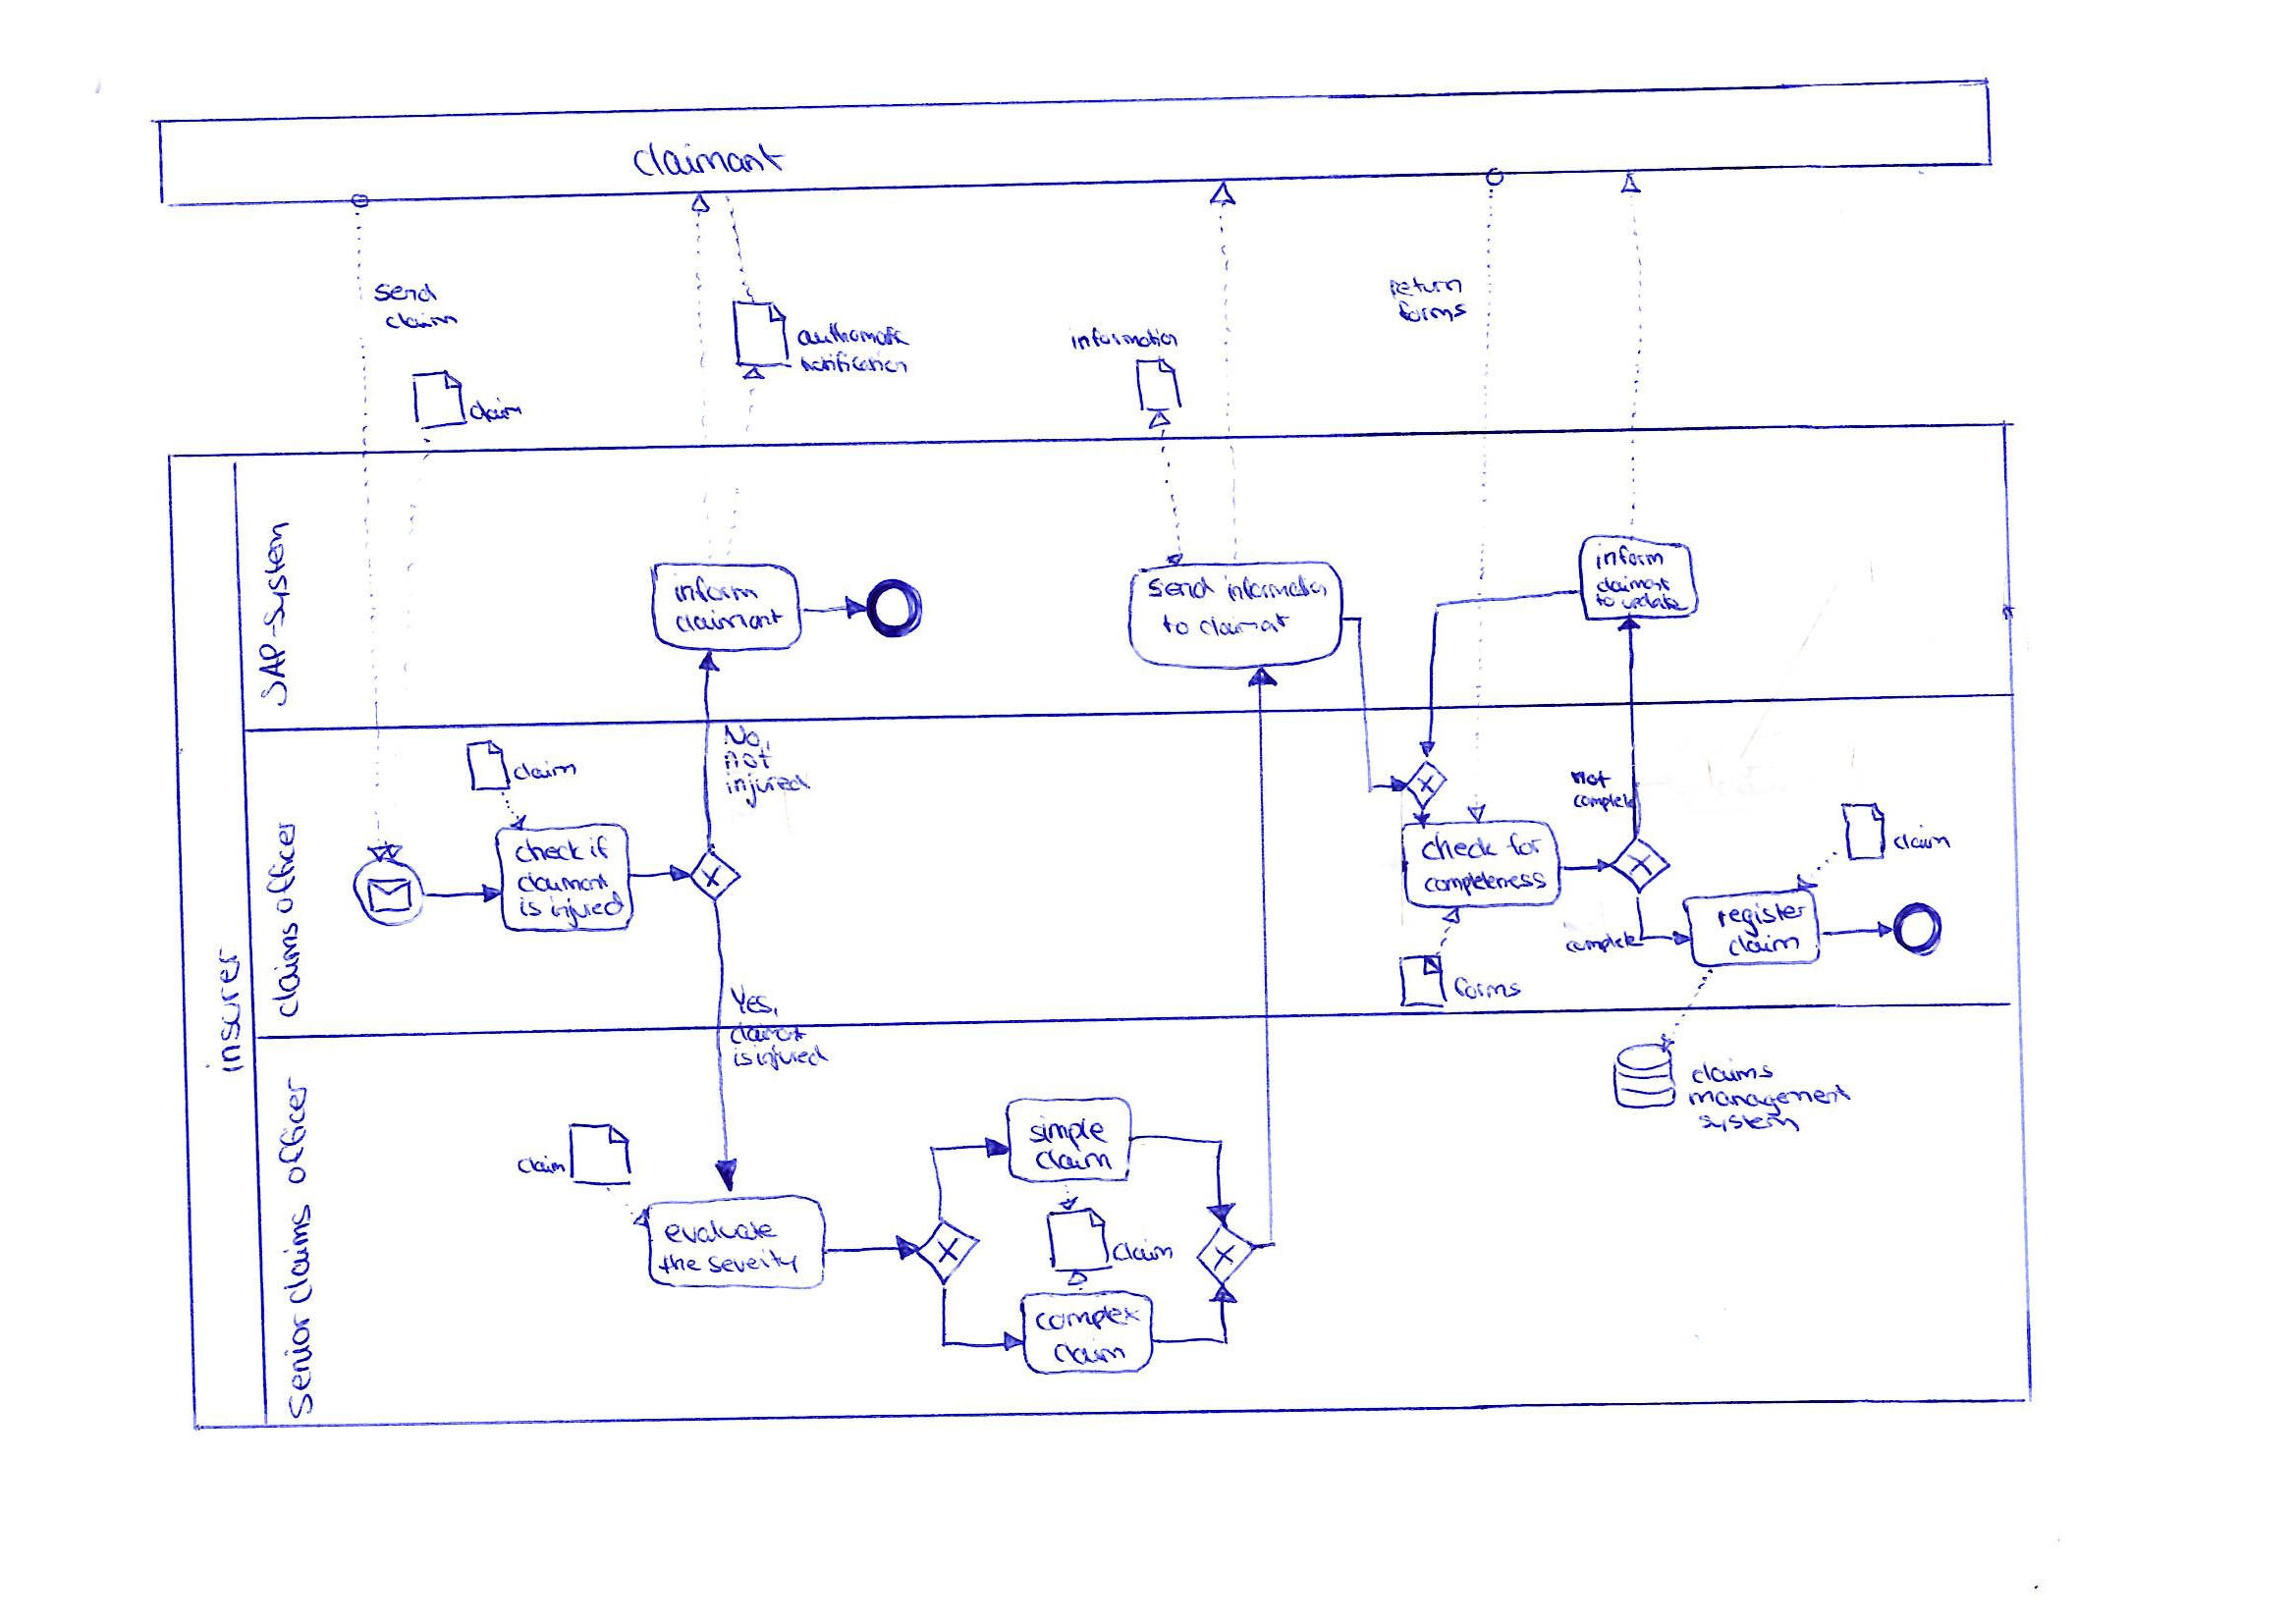Claim: (1110, 1238, 1173, 1266), (515, 1154, 564, 1180)
No: (727, 725, 762, 748)
SAP-System: (256, 523, 295, 699)
Senior: (279, 1314, 320, 1412)
Update: (1623, 594, 1685, 613)
Yes,: (731, 989, 776, 1015)
automatic: (796, 318, 908, 351)
check: (1419, 833, 1502, 862), (511, 836, 578, 868)
claim: (1881, 824, 1964, 852), (1727, 931, 1804, 961), (464, 393, 527, 429), (1035, 1151, 1117, 1175), (385, 311, 460, 337), (1054, 1340, 1126, 1367), (513, 759, 580, 783)
claimant: (634, 141, 785, 183), (673, 608, 787, 636), (726, 1013, 805, 1045), (1196, 611, 1288, 638), (518, 871, 610, 894), (1595, 576, 1671, 595)
claims: (265, 922, 306, 1022), (286, 1203, 318, 1309), (1690, 1059, 1774, 1086)
complete: (1560, 929, 1644, 963), (1572, 792, 1639, 813)
completeness: (1421, 868, 1546, 896)
complex: (1036, 1303, 1138, 1330)
evaluate: (664, 1217, 776, 1247)
for: (1505, 831, 1544, 859)
forms: (1449, 975, 1523, 1003), (1395, 300, 1469, 327)
if: (583, 834, 613, 864)
inform: (671, 578, 761, 610), (1593, 546, 1665, 571)
information: (1066, 325, 1180, 357), (1219, 569, 1326, 602)
injured: (722, 771, 812, 797), (750, 1043, 827, 1071), (555, 892, 622, 922)
insurer: (207, 947, 244, 1082)
is: (515, 898, 545, 919), (731, 1047, 752, 1071)
management: (1690, 1082, 1852, 1108)
not: (727, 748, 775, 771), (1572, 769, 1613, 789)
notification: (798, 353, 913, 379)
officer: (272, 1070, 314, 1182), (262, 822, 304, 917)
register: (1711, 898, 1809, 934)
return: (1386, 276, 1460, 299)
send: (1144, 571, 1214, 597), (378, 281, 441, 307)
severity: (706, 1251, 803, 1279)
simple: (1028, 1119, 1110, 1147)
system: (1702, 1114, 1801, 1133)
the: (659, 1252, 699, 1275)
to: (1159, 615, 1195, 638), (1593, 594, 1620, 611)
